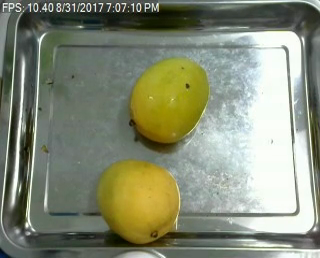Mango: (131, 57, 211, 144), (97, 159, 179, 242)
